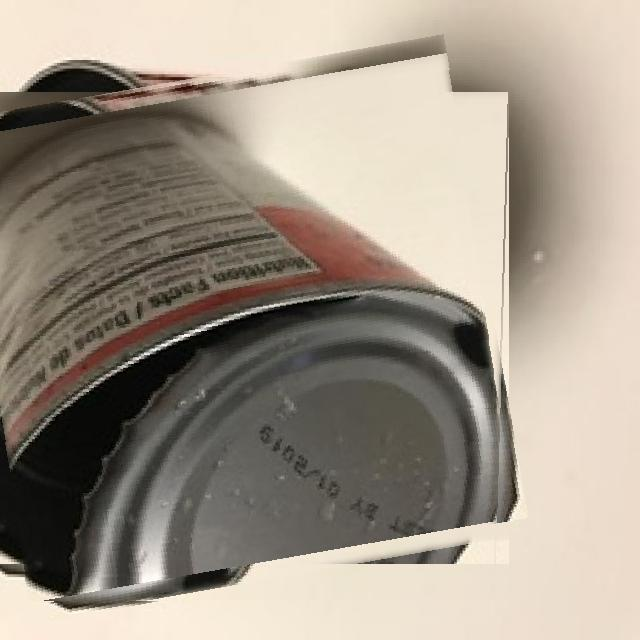recyclable: (0, 53, 511, 601)
